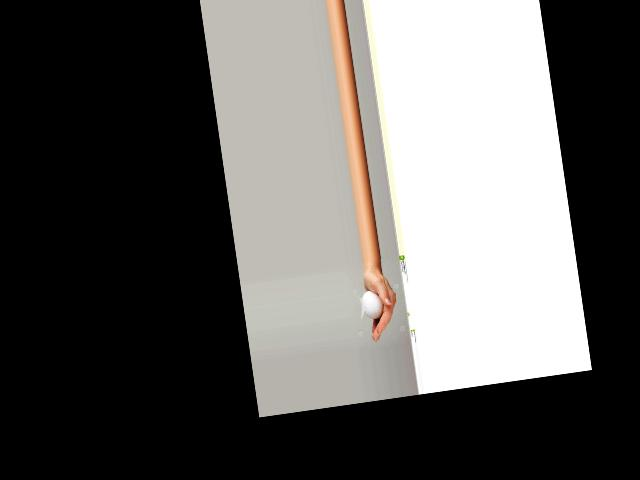egg: (361, 289, 385, 321)
